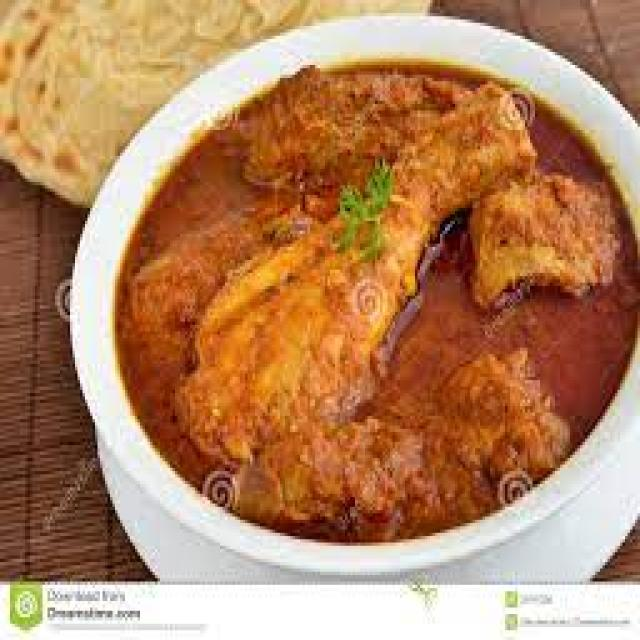Frango: (115, 61, 637, 542)
